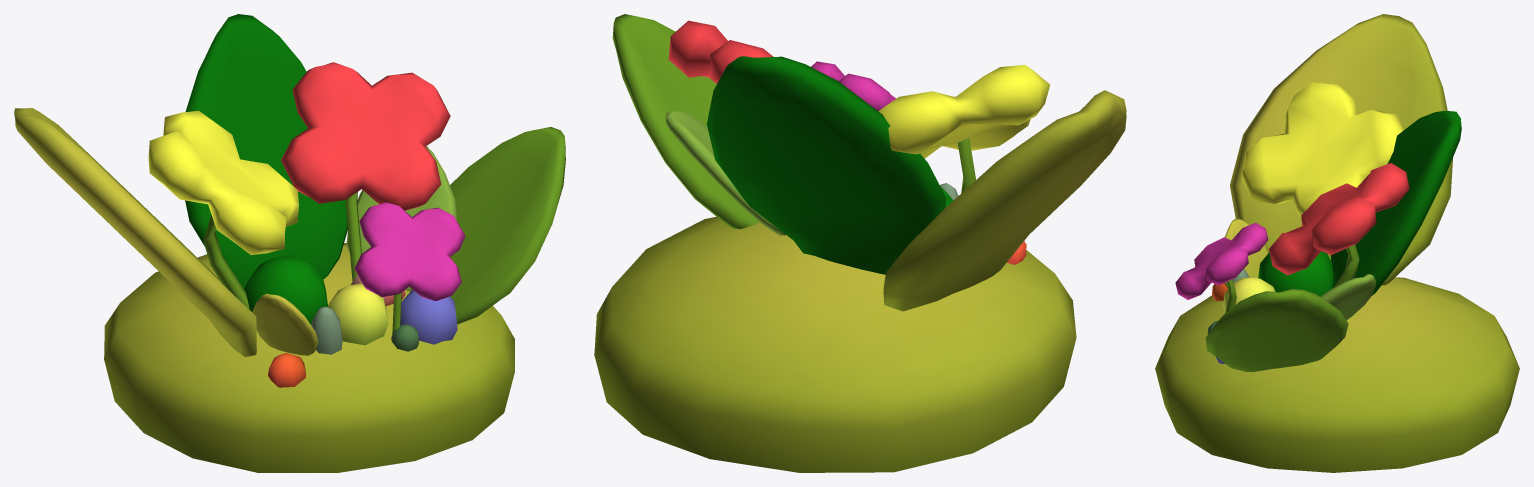
Rendered from SM_Flowers_03.fbx.
3 renders of one model, left to right at view 1: azimuth 30°, elevation 25°; view 2: azimuth 150°, elevation 25°; view 3: azimuth 270°, elevation 25°, orthographic. The views are drawn at different scales.
Visible parts, largest first — view 1: SM_Flowers_03; view 2: SM_Flowers_03; view 3: SM_Flowers_03.
Part boxes in pixels (x1,y1,x2,y2): SM_Flowers_03: (14,14,565,472); SM_Flowers_03: (594,14,1126,472); SM_Flowers_03: (1155,14,1519,472).
Bounding box in the file's own units: 485 × 315 × 365.
